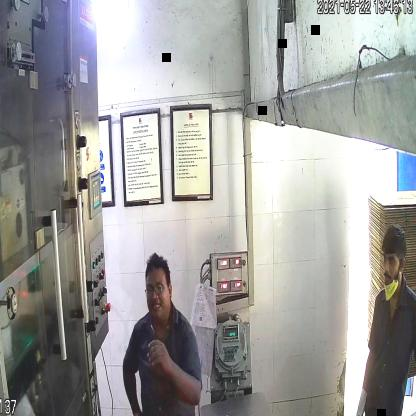goggles: (142, 282, 171, 300)
no_goggles: (381, 252, 406, 272)
